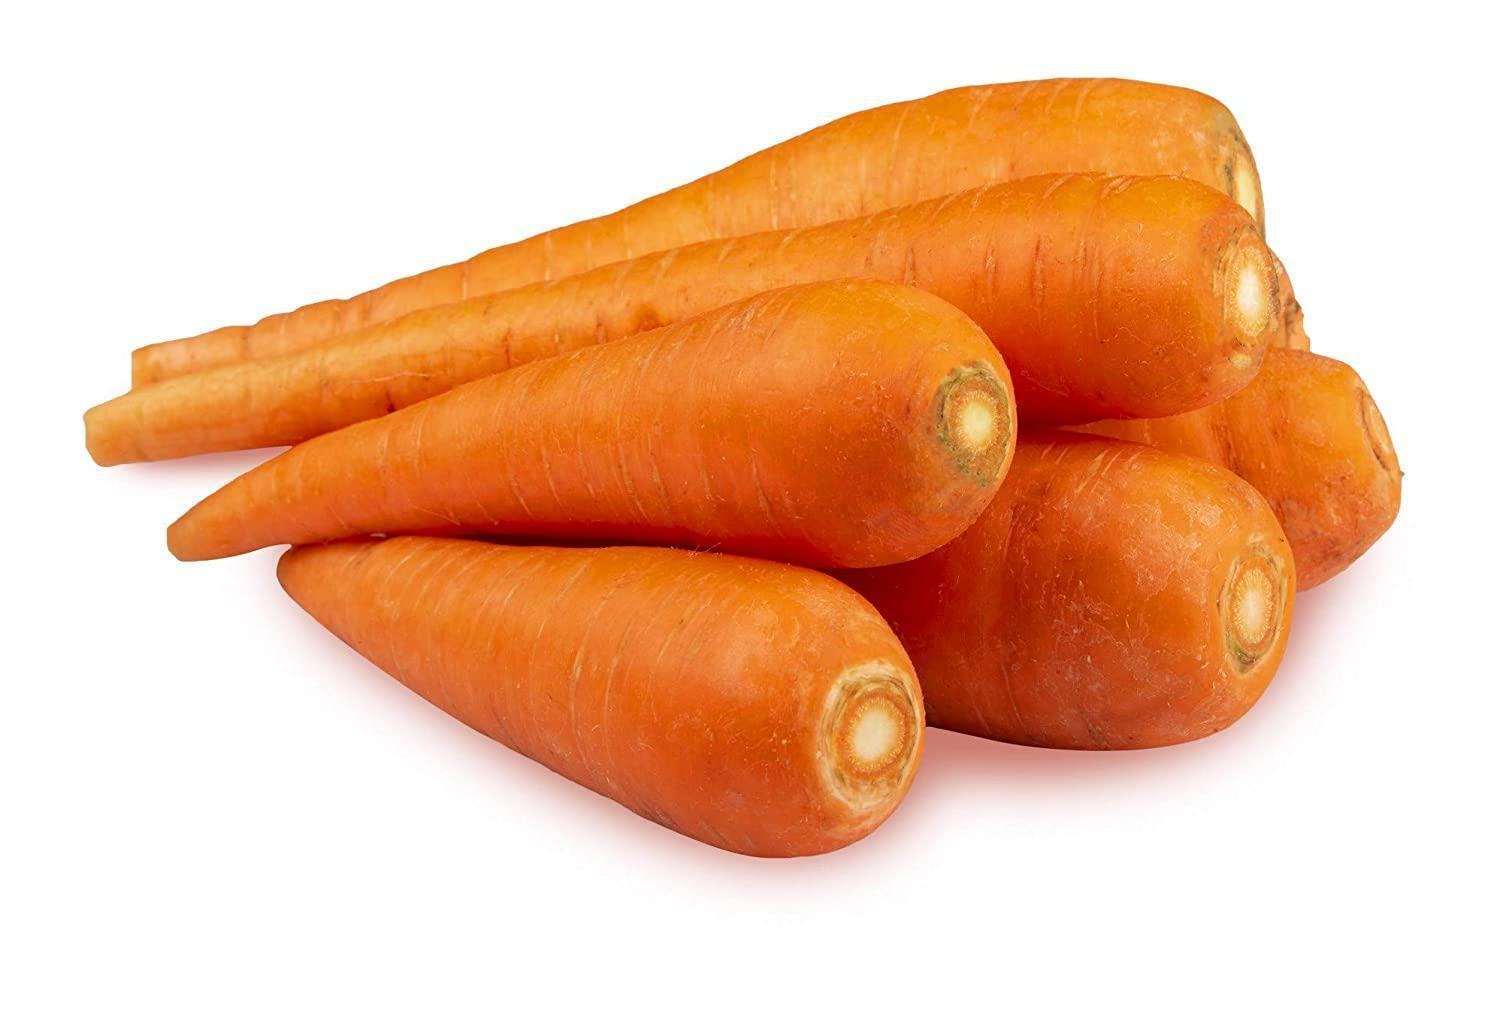carrot: (72, 172, 1409, 851), (212, 354, 1199, 810)
